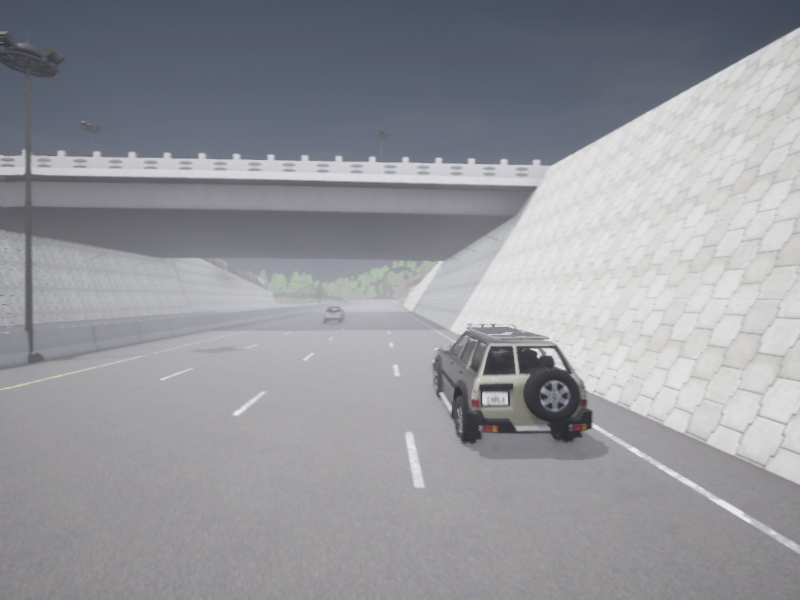vehicle: (432, 324, 591, 442), (324, 306, 344, 322)
